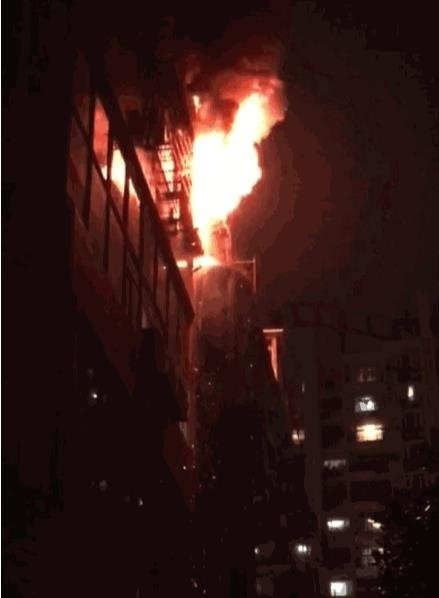fire: (90, 83, 278, 273)
